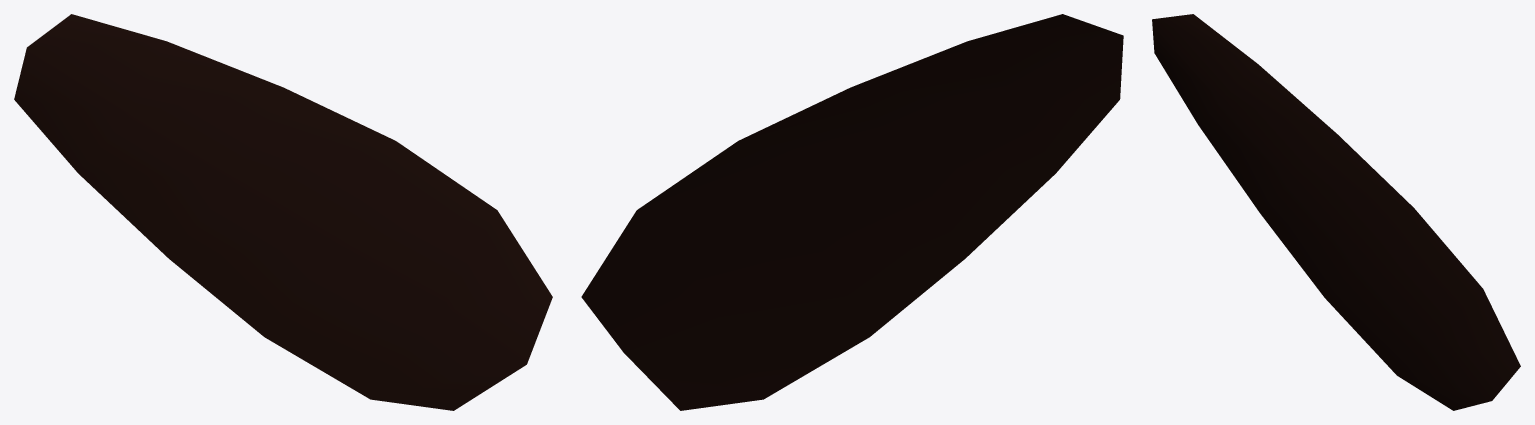
Rendered from finch_feather_flight_secondary_014.obj.
3 views of the same model, side by side, from view 1: azimuth 30°, elevation 25°; view 2: azimuth 150°, elevation 25°; view 3: azimuth 330°, elevation 25° (orthographic). The views are drawn at different scales.
Visible parts, largest first — view 1: feather_flight_secondary_014; view 2: feather_flight_secondary_014; view 3: feather_flight_secondary_014.
Boxes of the visible parts, x1=… form: feather_flight_secondary_014: x1=14, y1=14, x2=552, y2=410; feather_flight_secondary_014: x1=581, y1=14, x2=1123, y2=410; feather_flight_secondary_014: x1=1152, y1=14, x2=1520, y2=410.
Bounding box in the file's own units: 0.0128 × 0.0112 × 0.000337.
